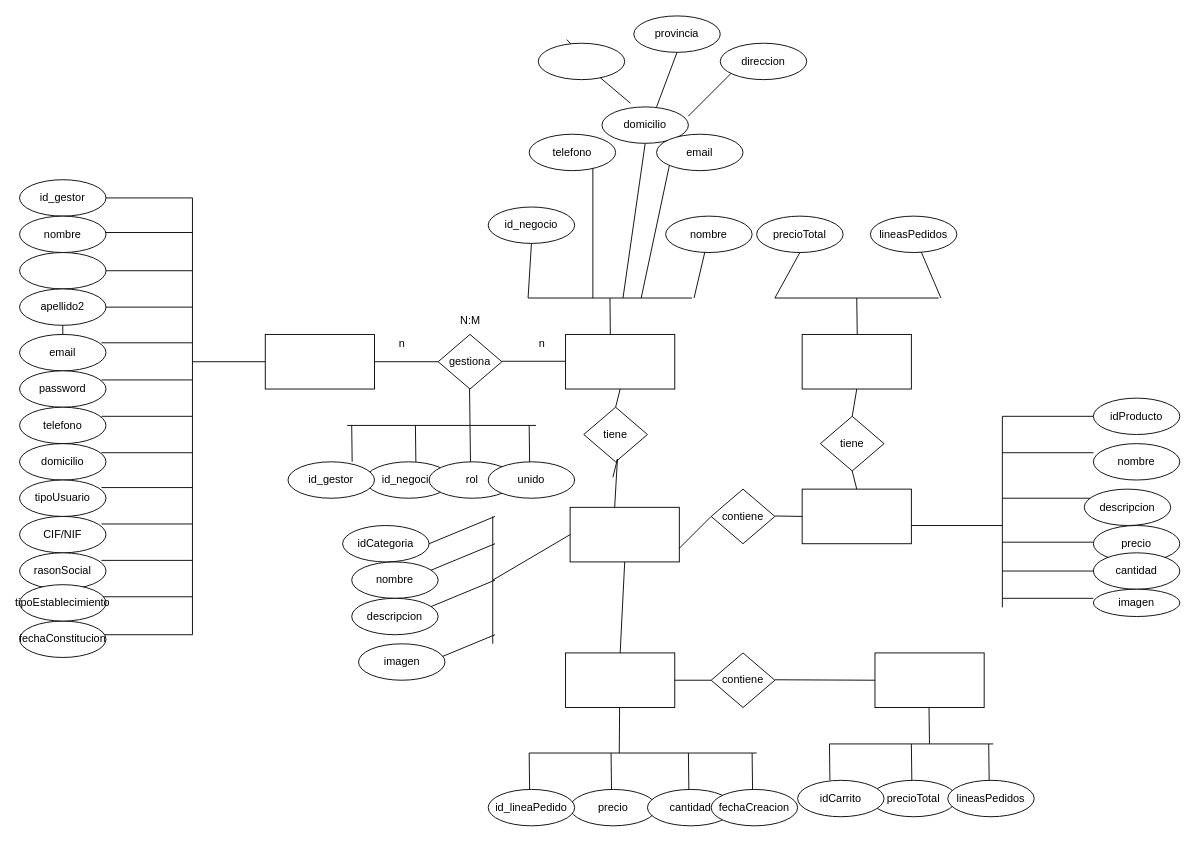
The diagram is 1196 pixels wide and 842 high, and some of its shapes have lost their labels. Here are the shapes that lost their labels. From the top down, the box of each, then its label:
(537, 42, 625, 80): codigoPostal
(19, 252, 106, 289): apellido1
(264, 334, 374, 389): GESTOR
(565, 334, 675, 389): NEGOCIO
(801, 334, 911, 389): ETIQUETA
(569, 506, 679, 562): CATEGORIA
(801, 488, 911, 544): PRODUCTO
(565, 652, 675, 708): LINEA_PEDIDO
(874, 652, 984, 708): CARRITO
